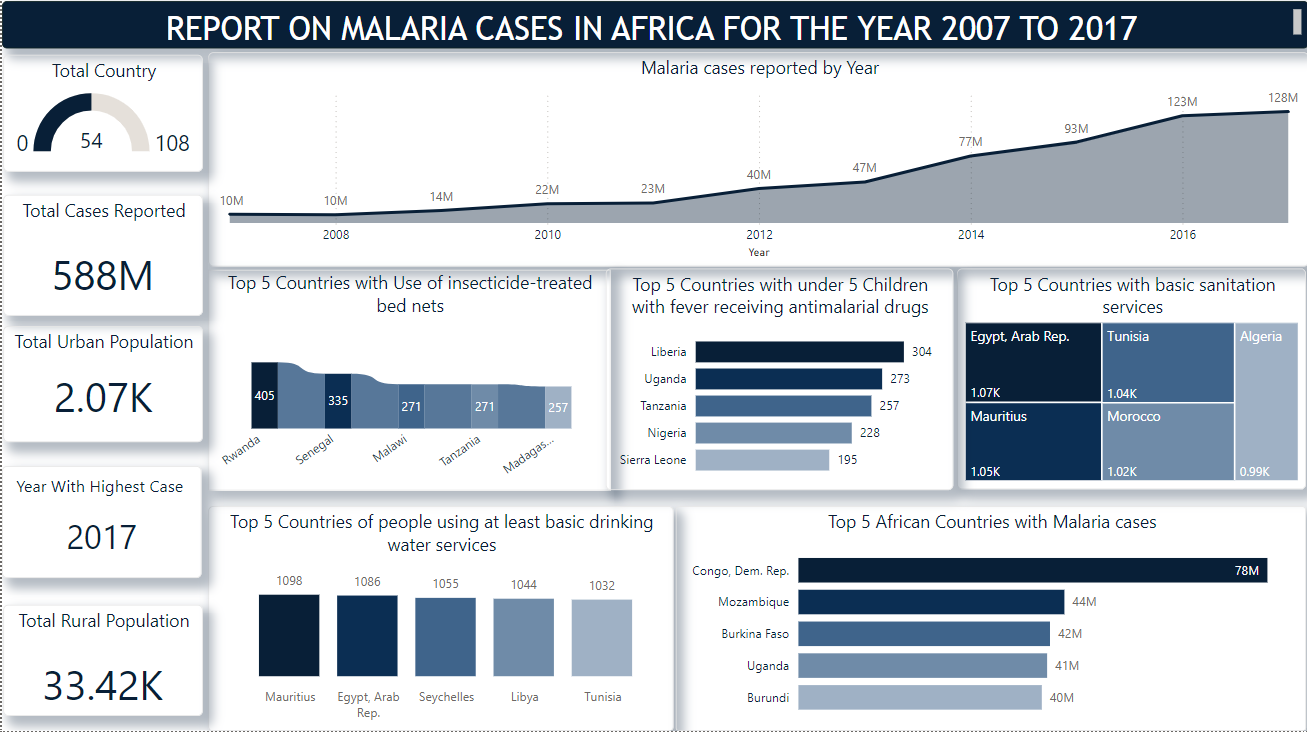

Layout of this report page (visuals, bound fields, positions):
{"tool":"powerbi","page":{"name":"Page 1","canvas":[1280,720],"ordinal":0},"visuals":[{"type":"textbox","box":[0,0,1279.3,46.2],"z":0},{"type":"lineChart","title":"Malaria cases reported by Year","fields":{"Y":["Sum(DatasetAfricaMalaria.Malaria cases reported)"],"Category":["DatasetAfricaMalaria.Year"]},"box":[201.8,46.2,1077.5,209.6],"z":1000},{"type":"ribbonChart","title":"Top 5 Countries with Use of insecticide-treated bed nets ","fields":{"Y":["Sum(DatasetAfricaMalaria.Use of insecticide-treated bed nets (% of under-5 population))"],"Category":["DatasetAfricaMalaria.Country Name"]},"box":[201.5,268.2,393.4,215.8],"z":2000},{"type":"treemap","title":"Top 5 Countries with basic sanitation services","fields":{"Values":["Sum(DatasetAfricaMalaria.People using at least basic sanitation services, urban  (% of urban population))"],"Group":["DatasetAfricaMalaria.Country Name"]},"box":[934.6,267,342.1,215.8],"z":3000},{"type":"barChart","title":"Top 5 Countries with under 5 Children with fever receiving antimalarial drugs ","fields":{"Category":["DatasetAfricaMalaria.Country Name"],"Y":["Sum(DatasetAfricaMalaria.Children with fever receiving antimalarial drugs (% of children under age 5 with fever))"]},"box":[590.1,267,339.7,216.9],"z":4000},{"type":"columnChart","title":"Top 5 Countries of people using at least basic drinking water services ","fields":{"Category":["DatasetAfricaMalaria.Country Name"],"Y":["Sum(DatasetAfricaMalaria.People using at least basic drinking water services (% of population))"]},"box":[201.5,499.5,455.4,220.5],"z":5000},{"type":"barChart","title":"Top 5 African Countries with Malaria cases","fields":{"Category":["DatasetAfricaMalaria.Country Name"],"Y":["Sum(DatasetAfricaMalaria.Malaria cases reported)"]},"box":[659.2,499.5,617.5,220.5],"z":6000},{"type":"gauge","title":"Total Country","fields":{"Y":["Count(DatasetAfricaMalaria.Country Name)"]},"box":[1.2,57.2,195.5,114.4],"z":7000},{"type":"cardVisual","title":"Total Cases Reported","fields":{"Data":["Sum(DatasetAfricaMalaria.Malaria cases reported)"]},"box":[1.2,194.3,195.5,118],"z":8000},{"type":"card","title":"Total Urban Population ","fields":{"Values":["Sum(DatasetAfricaMalaria.Urban population growth (annual %))"]},"box":[1.2,323,195.5,113.2],"z":9000},{"type":"textbox","box":[0,460.1,195.5,109.7],"z":10000},{"type":"cardVisual","title":"Total Rural Population","fields":{"Data":["Sum(DatasetAfricaMalaria.Rural population (% of total population))"]},"box":[1.2,596,195.5,108.5],"z":11000}]}

Visuals, with their boxes in screenshot pixels (x1, y1, x2, y2), scaled from the page's 1280x720 canvas onto the 1307x732 screenshot:
textbox: 0,0,1306,47
"Malaria cases reported by Year" lineChart: 206,47,1306,260
"Top 5 Countries with Use of insecticide-treated bed nets " ribbonChart: 206,273,607,492
"Top 5 Countries with basic sanitation services" treemap: 954,271,1304,491
"Top 5 Countries with under 5 Children with fever receiving antimalarial drugs " barChart: 603,271,949,492
"Top 5 Countries of people using at least basic drinking water services " columnChart: 206,508,671,731
"Top 5 African Countries with Malaria cases" barChart: 673,508,1304,731
"Total Country" gauge: 1,58,201,174
"Total Cases Reported" cardVisual: 1,198,201,318
"Total Urban Population " card: 1,328,201,443
textbox: 0,468,200,579
"Total Rural Population" cardVisual: 1,606,201,716
